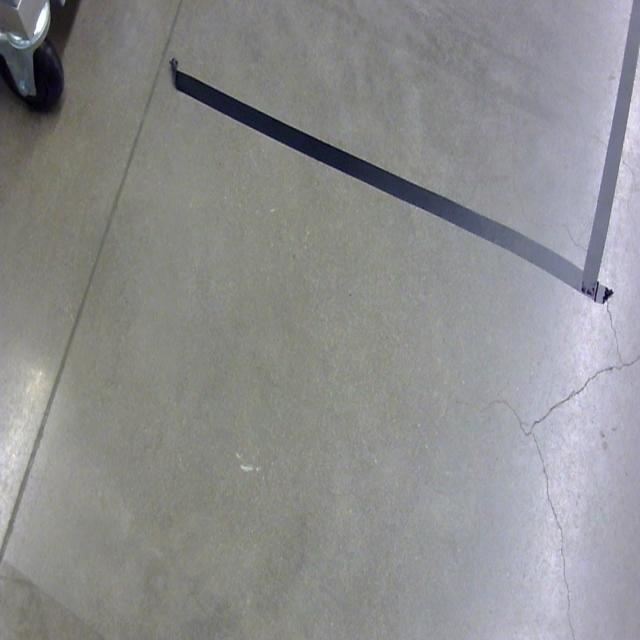tape: (170, 0, 638, 308)
